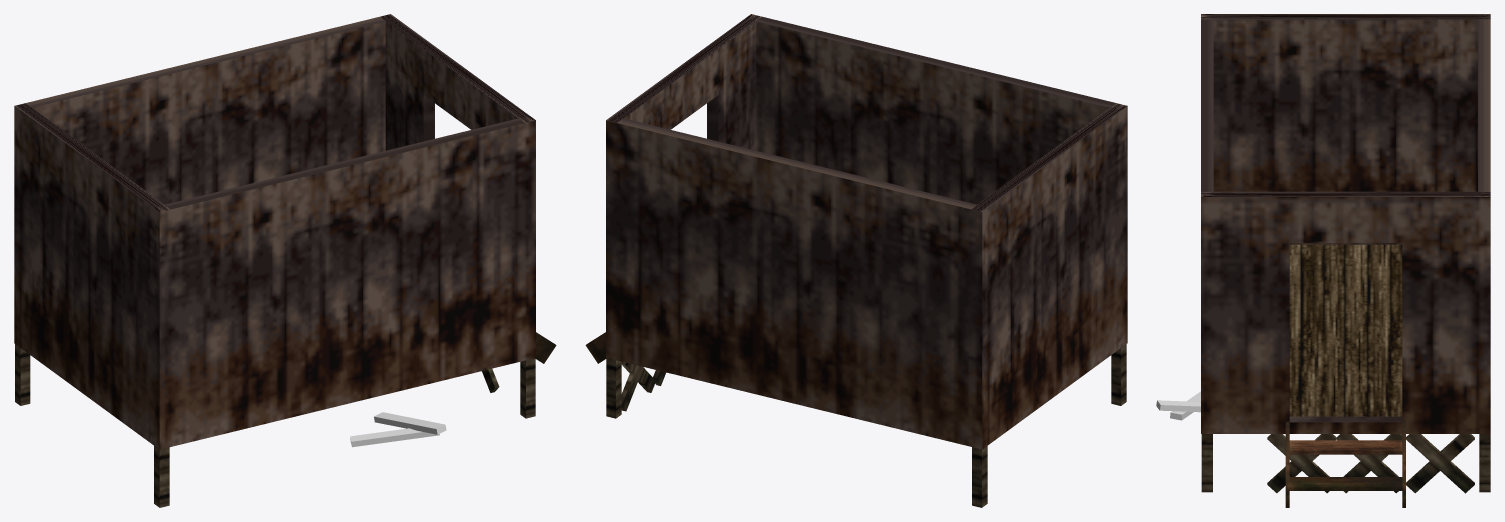
Rendered from house_garden.fbx.
3 views of the same model, side by side, from view 1: azimuth 30°, elevation 25°; view 2: azimuth 150°, elevation 25°; view 3: azimuth 270°, elevation 25° (orthographic).
Parts seen in each view (by area): view 1: Garden House, Main Support, Leftover, Leftover.001; view 2: Garden House, Main Support, Cube; view 3: Garden House, Cube, Plank Stairs, Plank Stairs.001, Main Support, Leftover.001, Stairs Support.001.
Boxes of the visible parts, x1=… form: Garden House: x1=14, y1=14, x2=535, y2=449; Main Support: x1=15, y1=344, x2=535, y2=507; Leftover: x1=350, y1=428, x2=439, y2=447; Leftover.001: x1=374, y1=412, x2=446, y2=434; Garden House: x1=606, y1=14, x2=1127, y2=449; Main Support: x1=606, y1=344, x2=1126, y2=507; Cube: x1=621, y1=361, x2=666, y2=411; Garden House: x1=1201, y1=14, x2=1490, y2=433; Cube: x1=1267, y1=434, x2=1474, y2=493; Plank Stairs: x1=1289, y1=440, x2=1402, y2=454; Plank Stairs.001: x1=1289, y1=477, x2=1402, y2=490; Main Support: x1=1201, y1=434, x2=1490, y2=492; Leftover.001: x1=1156, y1=400, x2=1200, y2=412; Stairs Support.001: x1=1285, y1=421, x2=1289, y2=507.
Size of the model in its own units: 1015 by 659 by 671.
